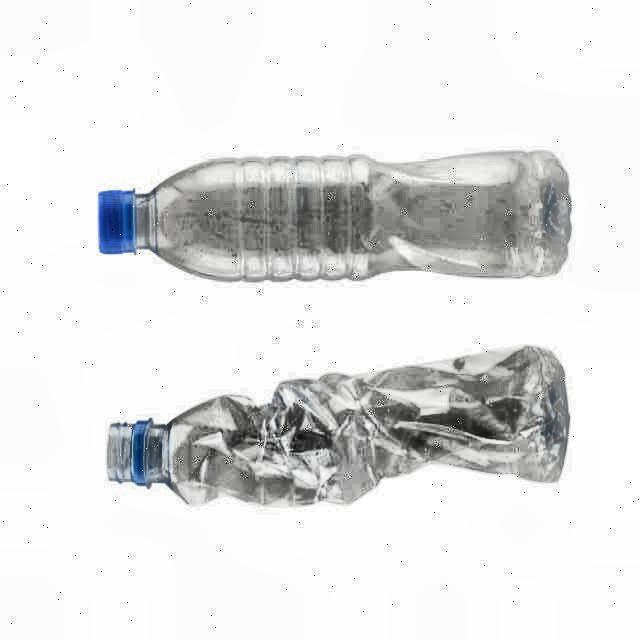plastic: (108, 346, 569, 505), (99, 151, 571, 281)
